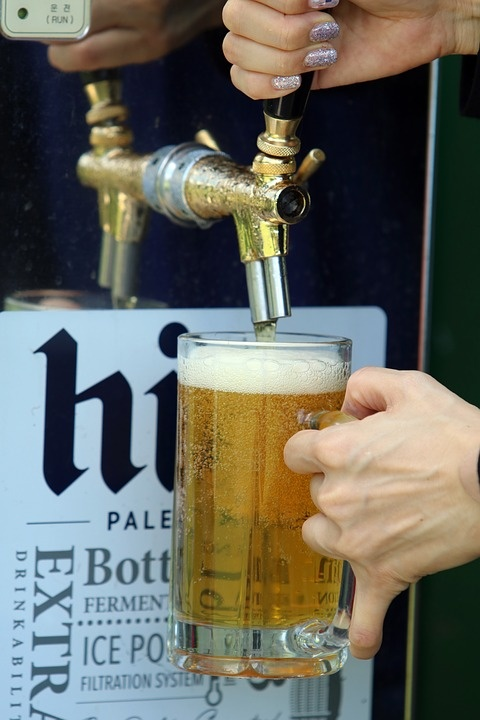glassBeer: (170, 325, 369, 661)
